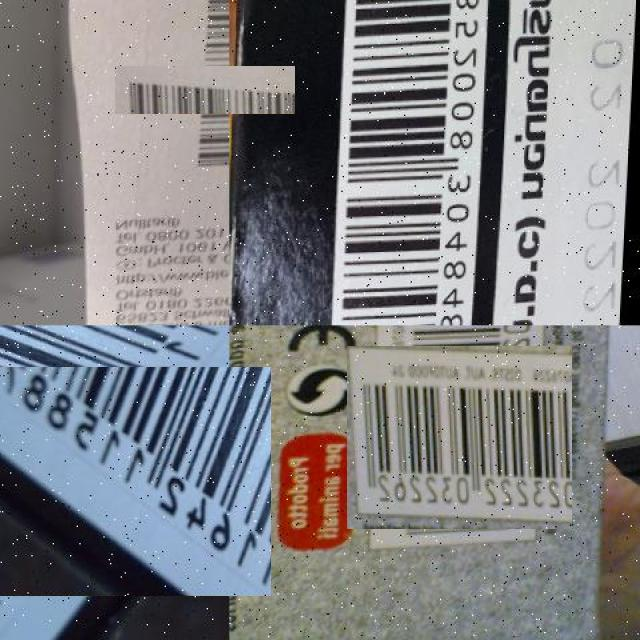Barcode: (0, 346, 250, 617), (338, 0, 489, 325), (357, 336, 562, 540), (148, 33, 262, 148)
